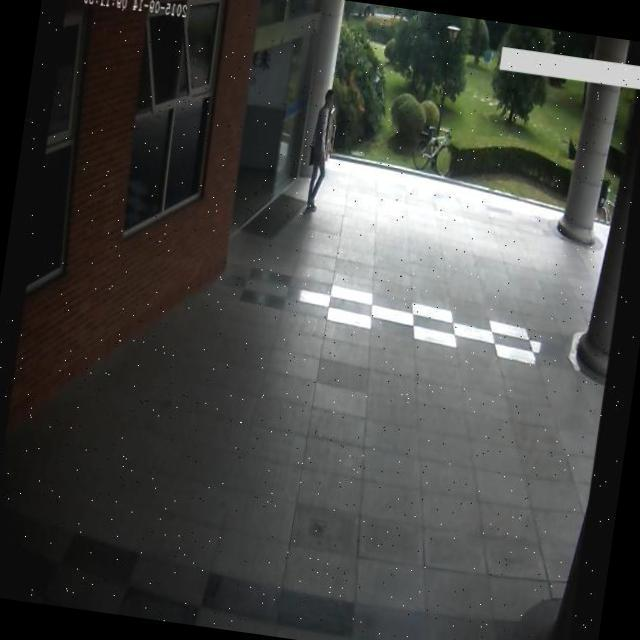person: (298, 84, 340, 218)
